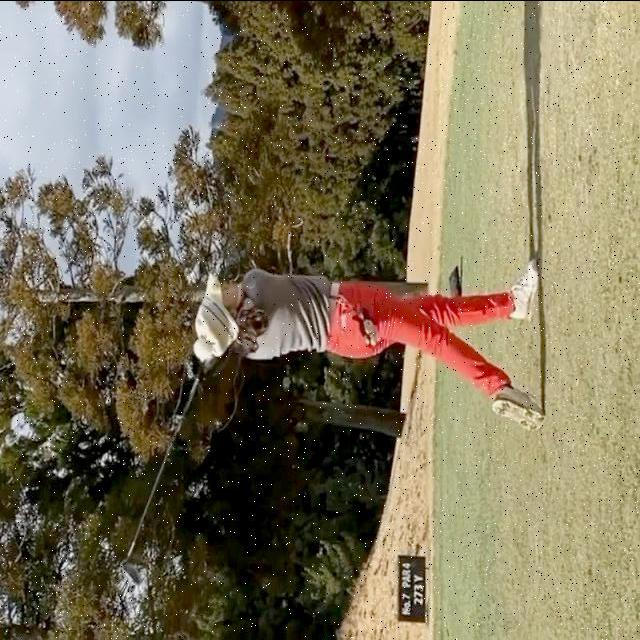golf club-handle: (124, 369, 209, 585)
golf club-head: (123, 563, 138, 585)
